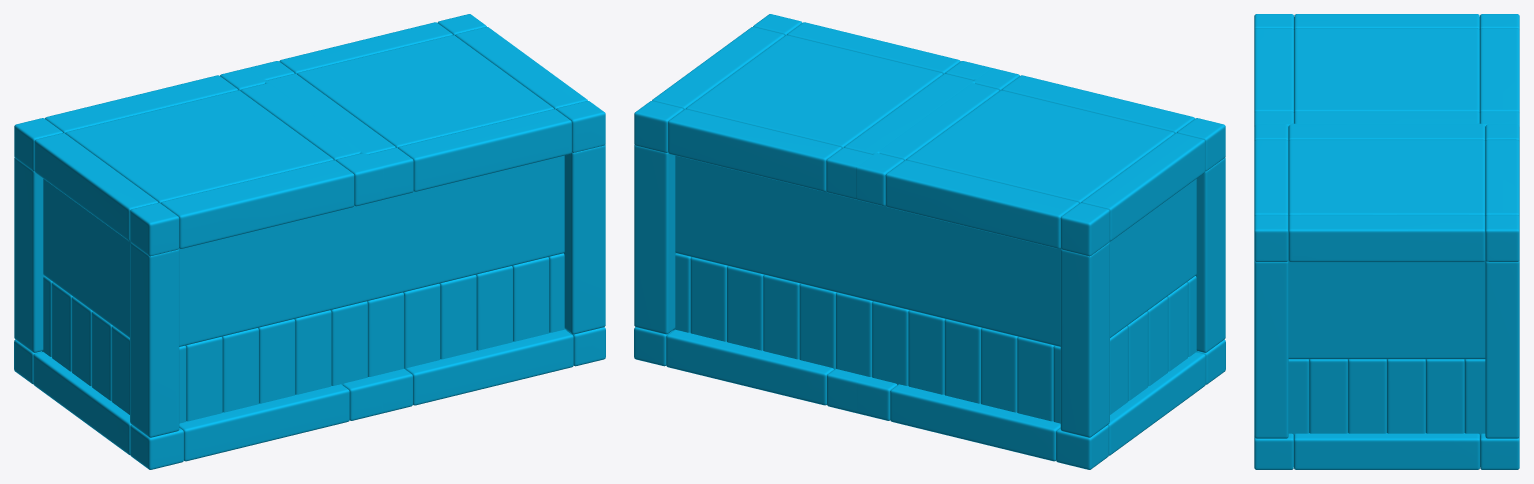
File: SM_Wood_Body_06.fbx
The picture shows the model from 3 angles, left to right: view 1: azimuth 30°, elevation 25°; view 2: azimuth 150°, elevation 25°; view 3: azimuth 270°, elevation 25°; orthographic projection. The views are drawn at different scales.
Visible parts, largest first — view 1: SM_Wood_Body_06; view 2: SM_Wood_Body_06; view 3: SM_Wood_Body_06.
Boxes of the visible parts, <box> form: SM_Wood_Body_06: <box>14,14,605,469</box>; SM_Wood_Body_06: <box>634,14,1225,469</box>; SM_Wood_Body_06: <box>1254,14,1519,469</box>.
Bounding box in the file's own units: 4.84 × 2.5 × 2.5.
